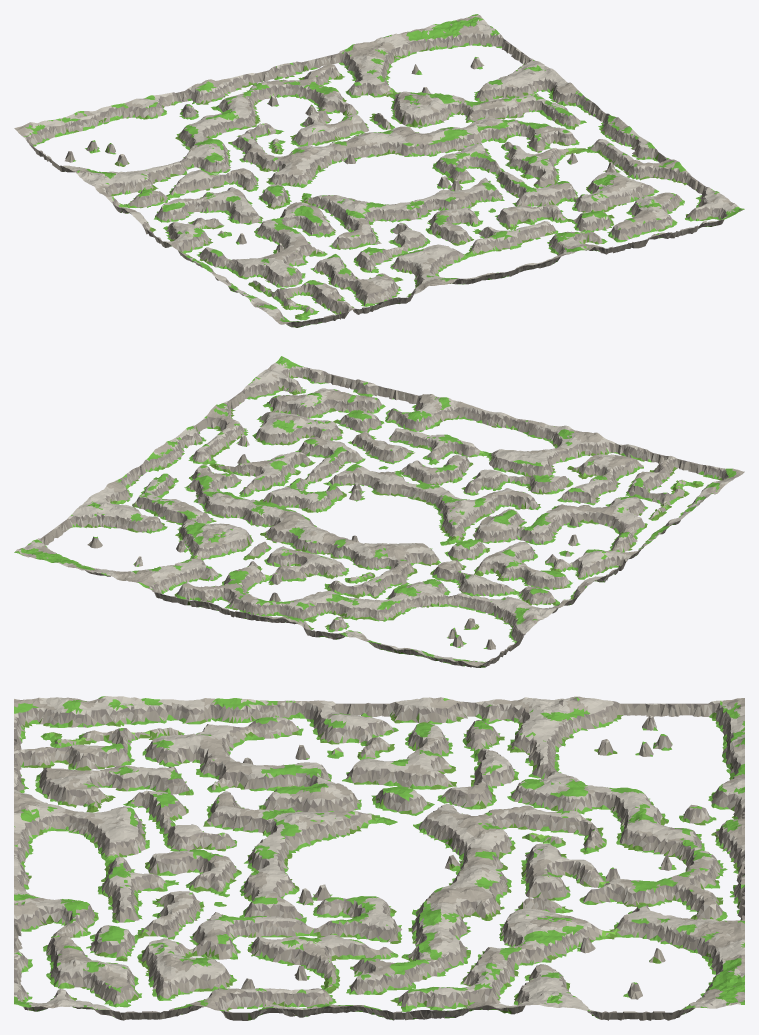
File: Dungeon-1-Relief.fbx
The picture shows the model from 3 angles, top to bottom: view 1: azimuth 30°, elevation 25°; view 2: azimuth 150°, elevation 25°; view 3: azimuth 270°, elevation 25°; orthographic projection. The views are drawn at different scales.
Parts seen in each view (by area): view 1: Dungeon-1-Relief-c75, Dungeon-1-Relief-c77, Dungeon-1-Relief-c60, Dungeon-1-Relief-c10, Dungeon-1-Relief-c15, Dungeon-1-Relief-c37, Dungeon-1-Relief-c47, Dungeon-1-Relief-c57, Dungeon-1-Relief-c05, Dungeon-1-Relief-c61, Dungeon-1-Relief-c65, Dungeon-1-Relief-c25 (+47 smaller); view 2: Dungeon-1-Relief-c20, Dungeon-1-Relief-c35, Dungeon-1-Relief-c26, Dungeon-1-Relief-c45, Dungeon-1-Relief-c54, Dungeon-1-Relief-c10, Dungeon-1-Relief-c60, Dungeon-1-Relief-c23, Dungeon-1-Relief-c70, Dungeon-1-Relief-c61, Dungeon-1-Relief-c37, Dungeon-1-Relief-c57 (+47 smaller); view 3: Dungeon-1-Relief-c05, Dungeon-1-Relief-c02, Dungeon-1-Relief-c00, Dungeon-1-Relief-c03, Dungeon-1-Relief-c11, Dungeon-1-Relief-c01, Dungeon-1-Relief-c04, Dungeon-1-Relief-c25, Dungeon-1-Relief-c71, Dungeon-1-Relief-c20, Dungeon-1-Relief-c45, Dungeon-1-Relief-c63 (+50 smaller).
Boxes of the visible parts, x1,y1,x2,y2 form: Dungeon-1-Relief-c75: [488, 64, 577, 112]; Dungeon-1-Relief-c77: [420, 14, 510, 51]; Dungeon-1-Relief-c60: [596, 199, 686, 248]; Dungeon-1-Relief-c10: [310, 277, 396, 319]; Dungeon-1-Relief-c15: [145, 150, 229, 198]; Dungeon-1-Relief-c37: [188, 74, 276, 113]; Dungeon-1-Relief-c47: [246, 61, 327, 106]; Dungeon-1-Relief-c57: [304, 43, 389, 90]; Dungeon-1-Relief-c05: [81, 170, 170, 210]; Dungeon-1-Relief-c61: [567, 176, 652, 222]; Dungeon-1-Relief-c65: [429, 82, 519, 122]; Dungeon-1-Relief-c25: [197, 138, 288, 184]; Dungeon-1-Relief-c20: [538, 428, 628, 477]; Dungeon-1-Relief-c35: [312, 539, 403, 583]; Dungeon-1-Relief-c26: [337, 579, 427, 621]; Dungeon-1-Relief-c45: [256, 521, 345, 566]; Dungeon-1-Relief-c54: [233, 490, 321, 527]; Dungeon-1-Relief-c10: [599, 444, 686, 491]; Dungeon-1-Relief-c60: [308, 376, 397, 413]; Dungeon-1-Relief-c23: [444, 502, 521, 550]; Dungeon-1-Relief-c70: [248, 356, 338, 396]; Dungeon-1-Relief-c61: [273, 395, 363, 440]; Dungeon-1-Relief-c37: [246, 592, 336, 629]; Dungeon-1-Relief-c57: [130, 563, 208, 605]; Dungeon-1-Relief-c05: [470, 697, 563, 752]; Dungeon-1-Relief-c02: [196, 698, 288, 751]; Dungeon-1-Relief-c00: [14, 696, 106, 749]; Dungeon-1-Relief-c03: [287, 700, 380, 752]; Dungeon-1-Relief-c11: [105, 735, 197, 791]; Dungeon-1-Relief-c01: [104, 696, 197, 751]; Dungeon-1-Relief-c04: [378, 697, 471, 752]; Dungeon-1-Relief-c25: [470, 777, 563, 829]; Dungeon-1-Relief-c71: [104, 966, 197, 1020]; Dungeon-1-Relief-c20: [14, 776, 105, 829]; Dungeon-1-Relief-c45: [470, 852, 562, 905]; Dungeon-1-Relief-c63: [287, 934, 380, 983].
Bounding box in the file's own units: 88 × 2.73 × 88.
